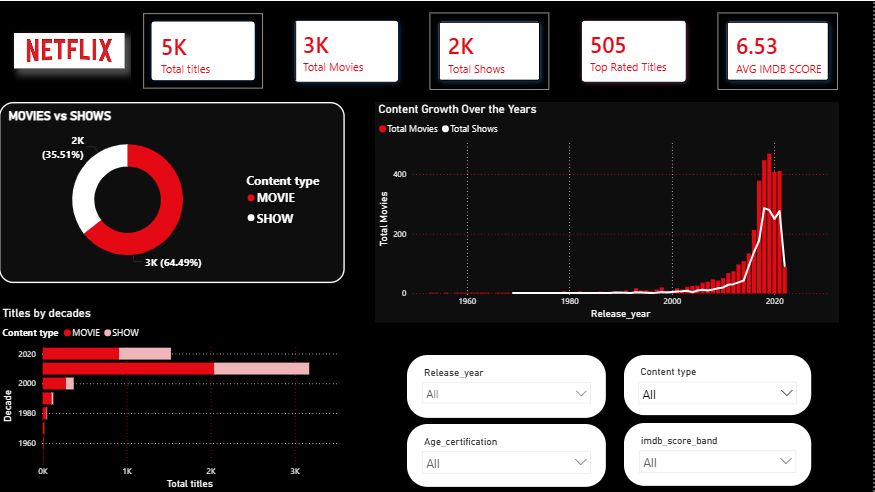

Layout of this report page (visuals, bound fields, positions):
{"tool":"powerbi","page":{"name":"Overview","canvas":[1280,720],"ordinal":0},"visuals":[{"type":"cardVisual","fields":{"Data":["Netflix TV Shows and Movies.Total titles"]},"box":[550,207.2,211.2,146.1],"z":0},{"type":"cardVisual","fields":{"Data":["Netflix TV Shows and Movies.Total Shows"]},"box":[613.7,0,209.9,147.5],"z":1000},{"type":"cardVisual","fields":{"Data":["Netflix TV Shows and Movies.Total Movies"]},"box":[403.8,0,209.9,147.5],"z":2000},{"type":"cardVisual","fields":{"Data":["Netflix TV Shows and Movies.AVG IMDB SCORE"]},"box":[1034.6,0,210,147.8],"z":3000},{"type":"cardVisual","fields":{"Data":["Netflix TV Shows and Movies.Top Rated Titles"]},"box":[823.9,0,210.7,147.8],"z":4000},{"type":"donutChart","title":"MOVIES vs SHOWS","fields":{"Category":["Netflix TV Shows and Movies.Content type"],"Y":["Netflix TV Shows and Movies.Total titles"]},"box":[0,147.8,506.3,264.9],"z":5000},{"type":"lineClusteredColumnComboChart","title":"Content Growth Over the Years","fields":{"Category":["Netflix TV Shows and Movies.Release_year"],"Y":["Netflix TV Shows and Movies.Total Movies"],"Y2":["Netflix TV Shows and Movies.Total Shows"]},"box":[550.2,147.8,679,323.4],"z":6000},{"type":"barChart","title":"Titles by decades","fields":{"Category":["Netflix TV Shows and Movies.Decade"],"Y":["Netflix TV Shows and Movies.Total titles"],"Series":["Netflix TV Shows and Movies.Content type"]},"box":[0,446.3,506.3,273.7],"z":7000},{"type":"slicer","fields":{"Values":["Netflix TV Shows and Movies.Content type"]},"box":[915.3,518.1,273.7,87.7],"z":8000},{"type":"slicer","fields":{"Values":["Netflix TV Shows and Movies.Age_certification"]},"box":[597.8,619,290.9,91.7],"z":9000},{"type":"slicer","fields":{"Values":["Netflix TV Shows and Movies.imdb_score_band"]},"box":[915.3,617.7,273.7,91.7],"z":10000},{"type":"slicer","fields":{"Values":["Netflix TV Shows and Movies.Release_year"]},"box":[597.8,518.1,290.9,91.7],"z":11000},{"type":"image","box":[21.3,46.5,162.1,51.8],"z":12000},{"type":"cardVisual","fields":{"Data":["Netflix TV Shows and Movies.Total titles"]},"box":[192.6,0,211.2,146.1],"z":13000}]}

Visuals, with their boxes in screenshot pixels (x1, y1, x2, y2), scaled from the page's 1280x720 canvas onto the 875x492 screenshot:
cardVisual - Netflix TV Shows and Movies.Total titles: select_region(376, 142, 520, 241)
cardVisual - Netflix TV Shows and Movies.Total Shows: select_region(420, 0, 563, 101)
cardVisual - Netflix TV Shows and Movies.Total Movies: select_region(276, 0, 420, 101)
cardVisual - Netflix TV Shows and Movies.AVG IMDB SCORE: select_region(707, 0, 851, 101)
cardVisual - Netflix TV Shows and Movies.Top Rated Titles: select_region(563, 0, 707, 101)
"MOVIES vs SHOWS" donutChart: select_region(0, 101, 346, 282)
"Content Growth Over the Years" lineClusteredColumnComboChart: select_region(376, 101, 840, 322)
"Titles by decades" barChart: select_region(0, 305, 346, 491)
slicer - Netflix TV Shows and Movies.Content type: select_region(626, 354, 813, 414)
slicer - Netflix TV Shows and Movies.Age_certification: select_region(409, 423, 608, 486)
slicer - Netflix TV Shows and Movies.imdb_score_band: select_region(626, 422, 813, 485)
slicer - Netflix TV Shows and Movies.Release_year: select_region(409, 354, 608, 417)
image: select_region(15, 32, 125, 67)
cardVisual - Netflix TV Shows and Movies.Total titles: select_region(132, 0, 276, 100)
